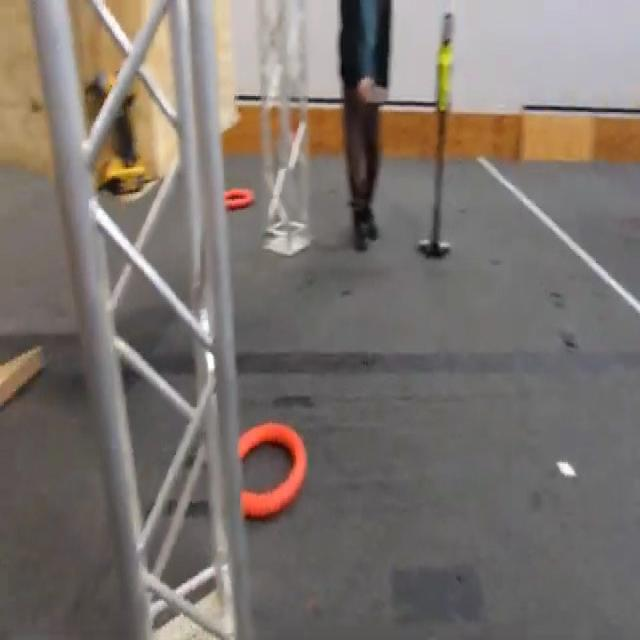note: (239, 422, 310, 518), (224, 185, 255, 211)
